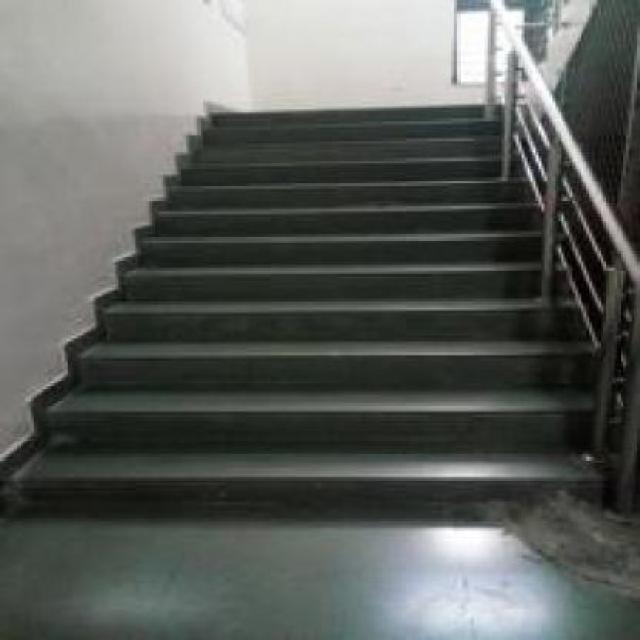stair: (48, 288, 502, 522)
